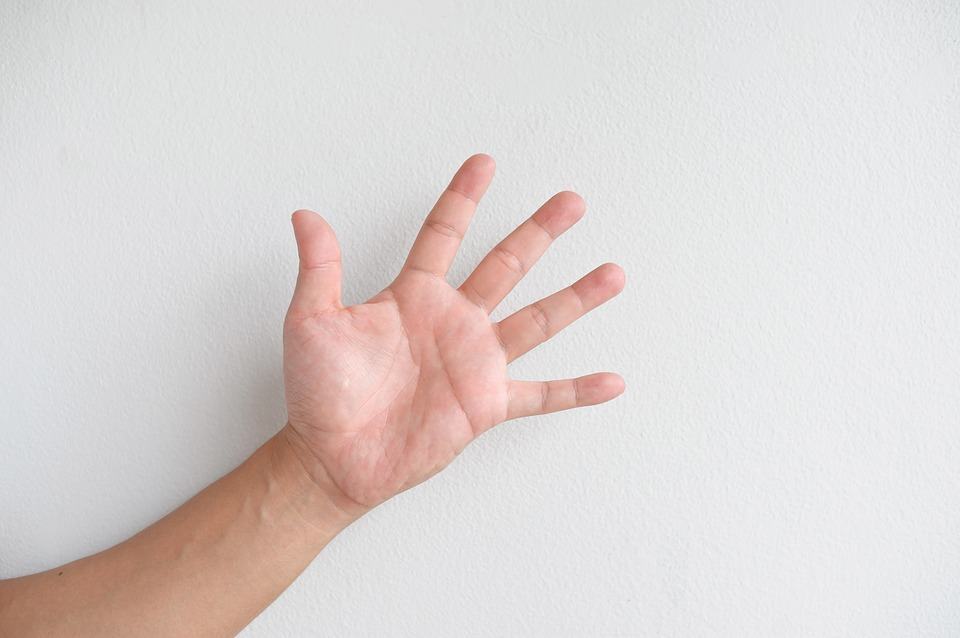hand: (257, 145, 638, 517)
